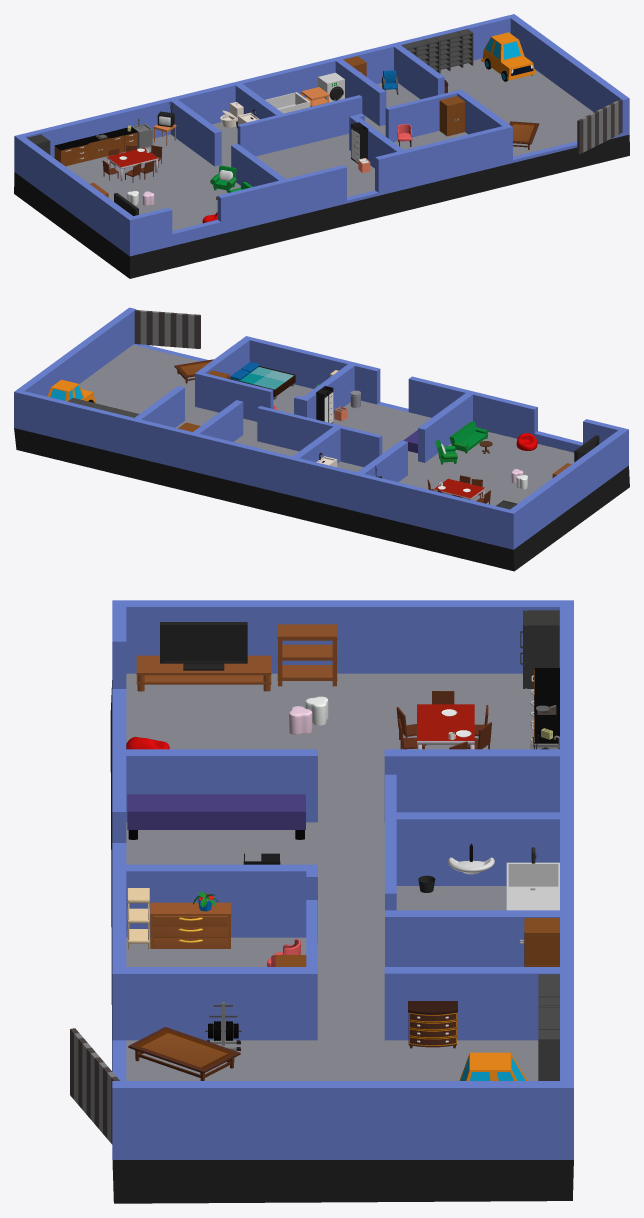
File: Level1.fbx
3 views of the same model, one above another, from view 1: azimuth 30°, elevation 25°; view 2: azimuth 150°, elevation 25°; view 3: azimuth 270°, elevation 25° (orthographic). The views are drawn at different scales.
Parts seen in each view (by area): view 1: Room, Body, Cube.036, Cube.028, Cube.035, Table, closet_001, Cube.026, Cube.025, coffee_table_001, kitchen_table_3, kitchen_table_1 (+4 smaller); view 2: Room, big_sofa, Cube.030, Body, closet_001, Table, Cube.029, coffee_table_001; view 3: Room, Cube.020, BigTV, Cube.032, BigTVtable, Cube.022, coffee_table_001, Cube.026, Fridge, dresser_001, Table, Cube.034 (+4 smaller).
Boxes of the visible parts, <box> form: Room: <box>14,14,629,278</box>; Body: <box>481,32,535,80</box>; Cube.036: <box>435,29,473,73</box>; Cube.028: <box>439,96,464,136</box>; Cube.035: <box>401,37,439,73</box>; Table: <box>106,148,158,181</box>; closet_001: <box>351,122,368,163</box>; Cube.026: <box>265,92,310,113</box>; Cube.025: <box>318,72,344,102</box>; coffee_table_001: <box>509,121,539,149</box>; kitchen_table_3: <box>82,133,110,160</box>; kitchen_table_1: <box>54,142,74,166</box>; Room: <box>14,307,629,571</box>; big_sofa: <box>449,421,488,453</box>; Cube.030: <box>230,367,293,389</box>; Body: <box>47,379,95,402</box>; closet_001: <box>316,386,333,423</box>; Table: <box>433,478,485,499</box>; Cube.029: <box>230,362,295,399</box>; coffee_table_001: <box>174,359,213,383</box>; Room: <box>70,600,573,1203</box>; Cube.020: <box>127,794,305,839</box>; BigTV: <box>160,622,247,670</box>; Cube.032: <box>150,902,230,948</box>; BigTVtable: <box>136,655,271,691</box>; Cube.022: <box>277,624,337,686</box>; coffee_table_001: <box>128,1027,240,1080</box>; Cube.026: <box>506,847,559,910</box>; Fridge: <box>520,610,559,688</box>; dresser_001: <box>408,1001,457,1048</box>; Table: <box>417,704,474,749</box>; Cube.034: <box>519,918,559,965</box>.
Bounding box in the file's own units: 1728 × 205 × 753.
